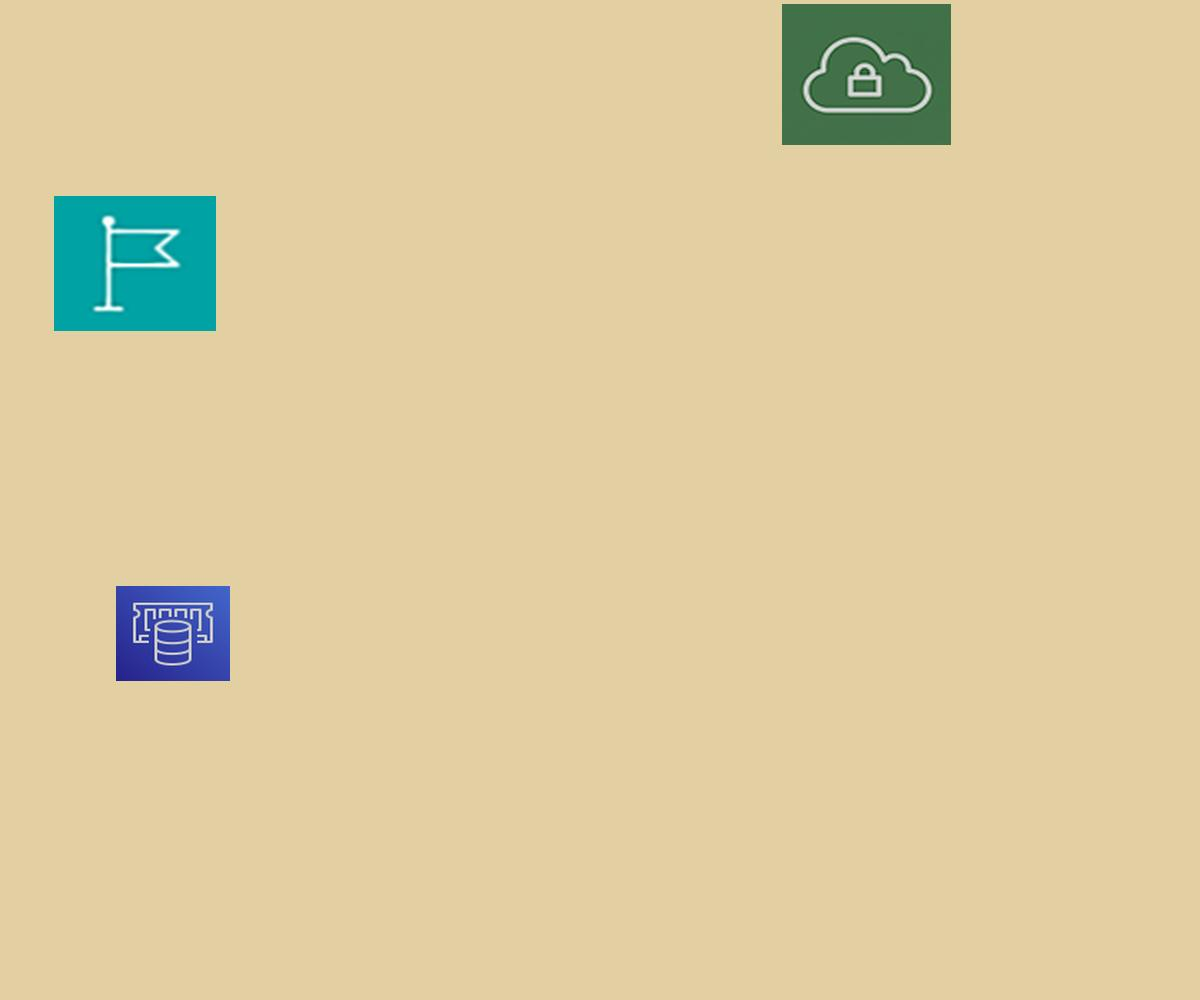AWS-ElastiCache: (116, 586, 230, 681)
AWS-Private_vpc: (782, 4, 951, 145)
AWS-Region: (54, 196, 216, 331)
